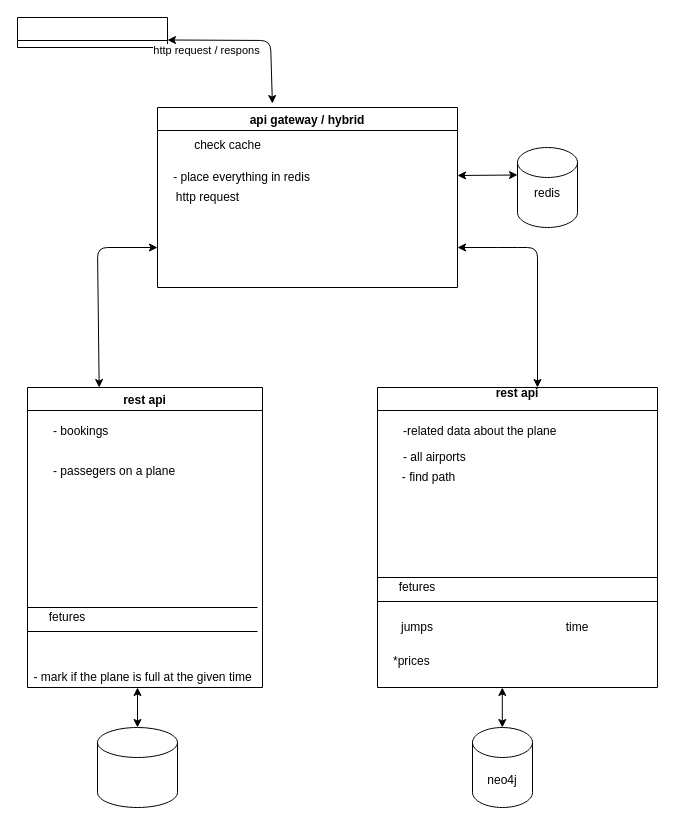
Image size: 676x825. Some labels were removed from this diagram. Each missing label, with the box of its shape:
postgresql: (96, 726, 178, 808)
postman (cli): (16, 16, 168, 48)
